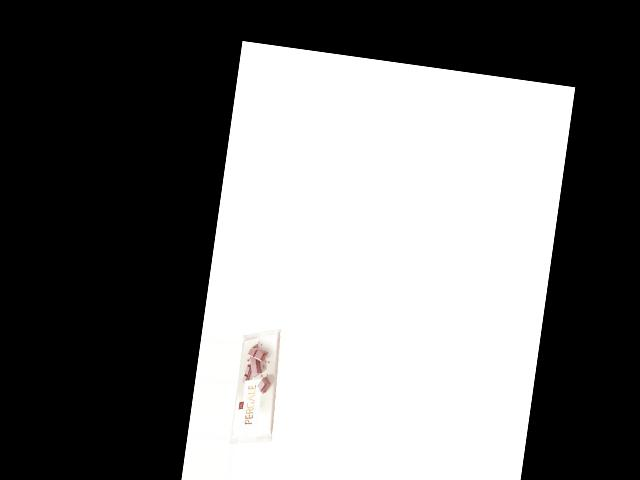chocolate: (228, 321, 286, 450)
